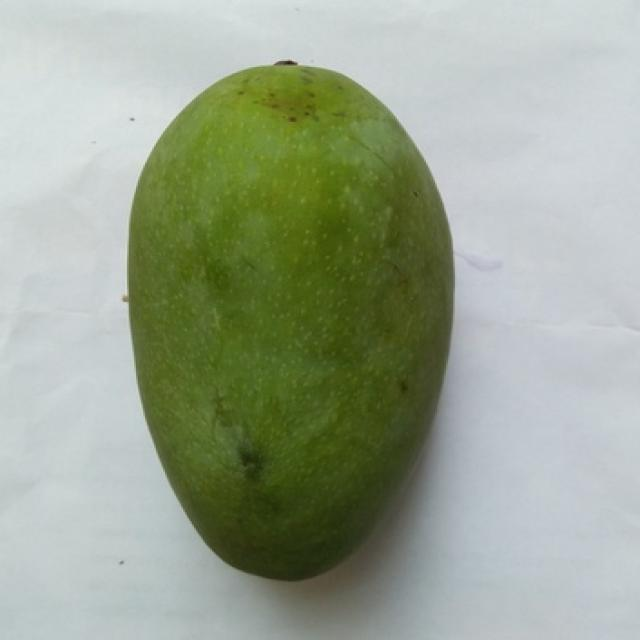Mango: (129, 64, 451, 579)
